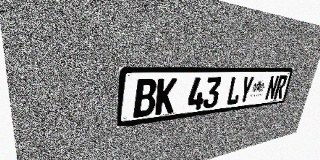3: (202, 77, 222, 109)
4: (187, 77, 207, 111)
B: (133, 78, 157, 118)
K: (155, 78, 177, 115)
L: (225, 76, 243, 106)
N: (264, 75, 280, 101)
R: (273, 75, 288, 99)
Y: (238, 76, 255, 104)
